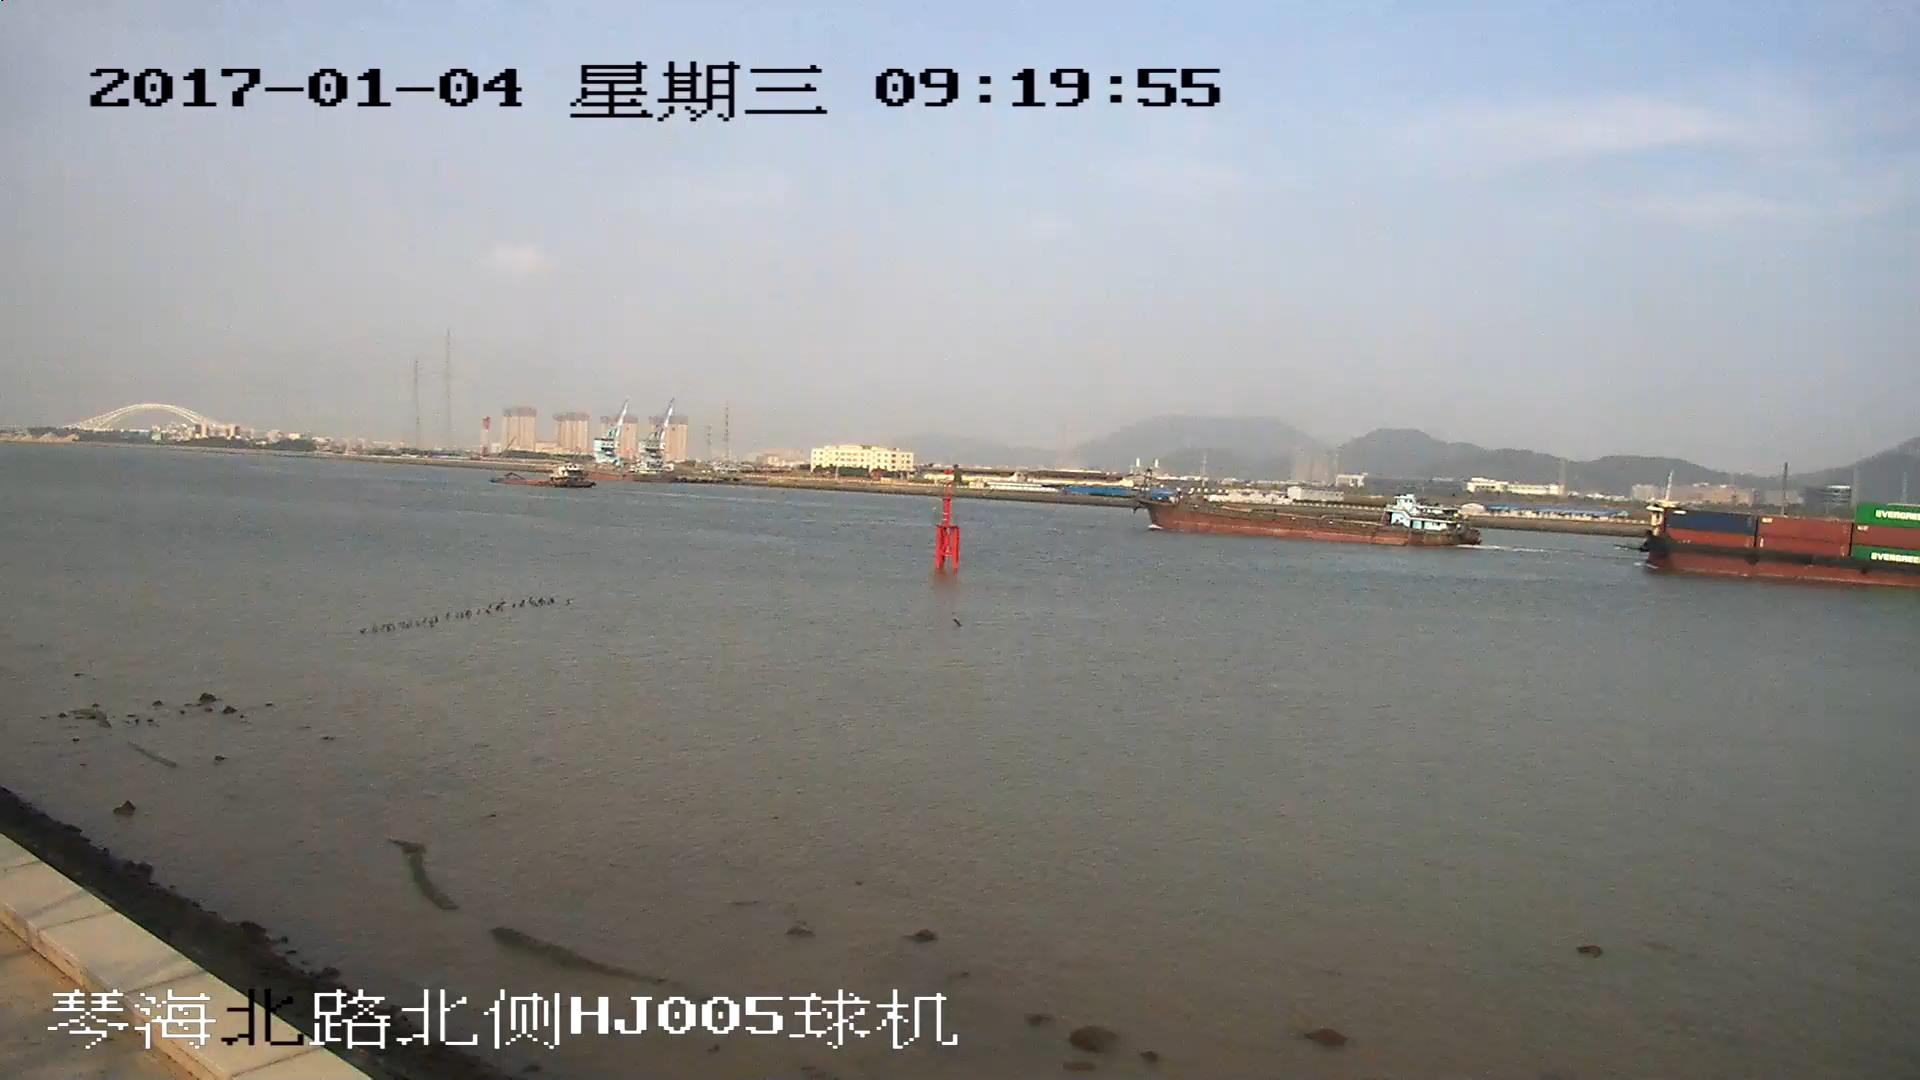bulk cargo carrier: (1140, 488, 1475, 544)
container ship: (1631, 501, 1920, 587)
